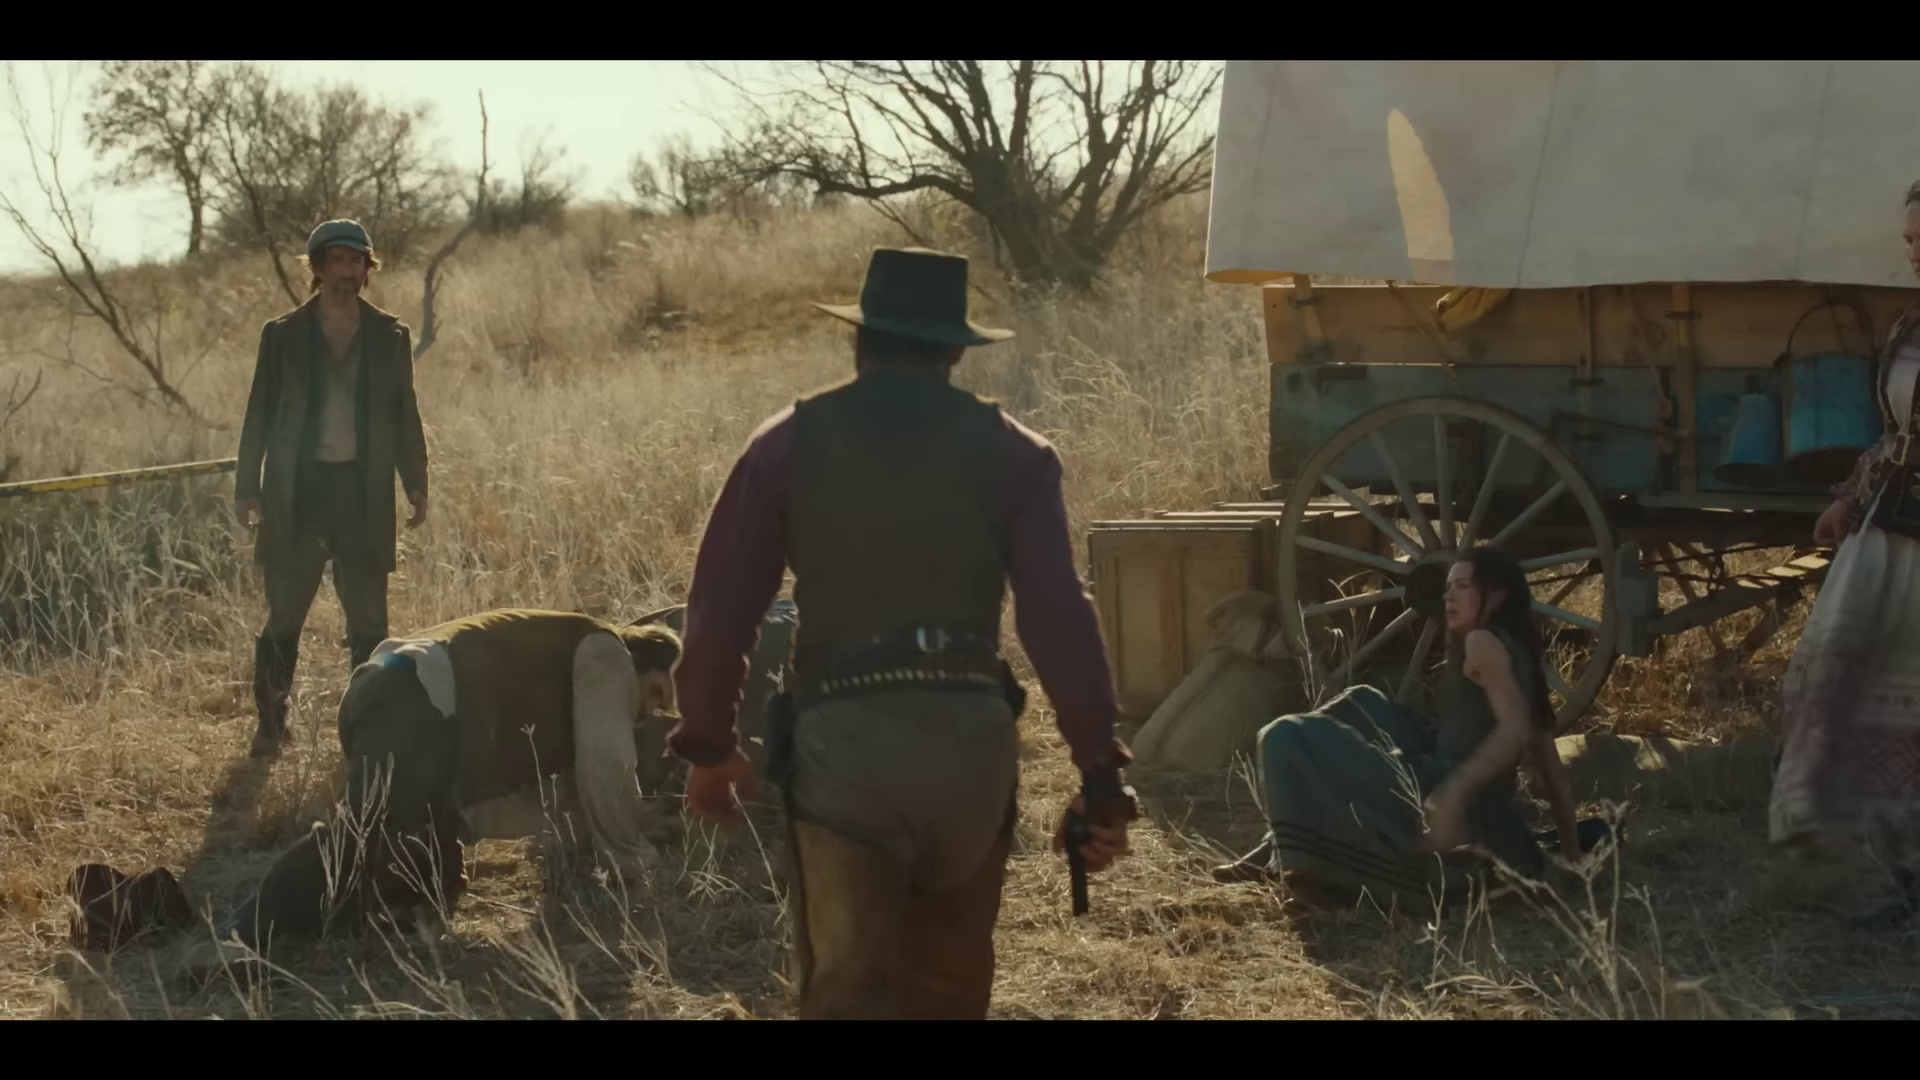gun: (1060, 782, 1143, 920)
p_w_gun: (663, 240, 1145, 1015)
p_wo_gun_not_carrying_normal_pose: (1218, 535, 1601, 924), (258, 604, 691, 922), (1762, 178, 1920, 911), (232, 215, 434, 761)
